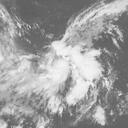cyclone: (35, 40, 101, 100)
